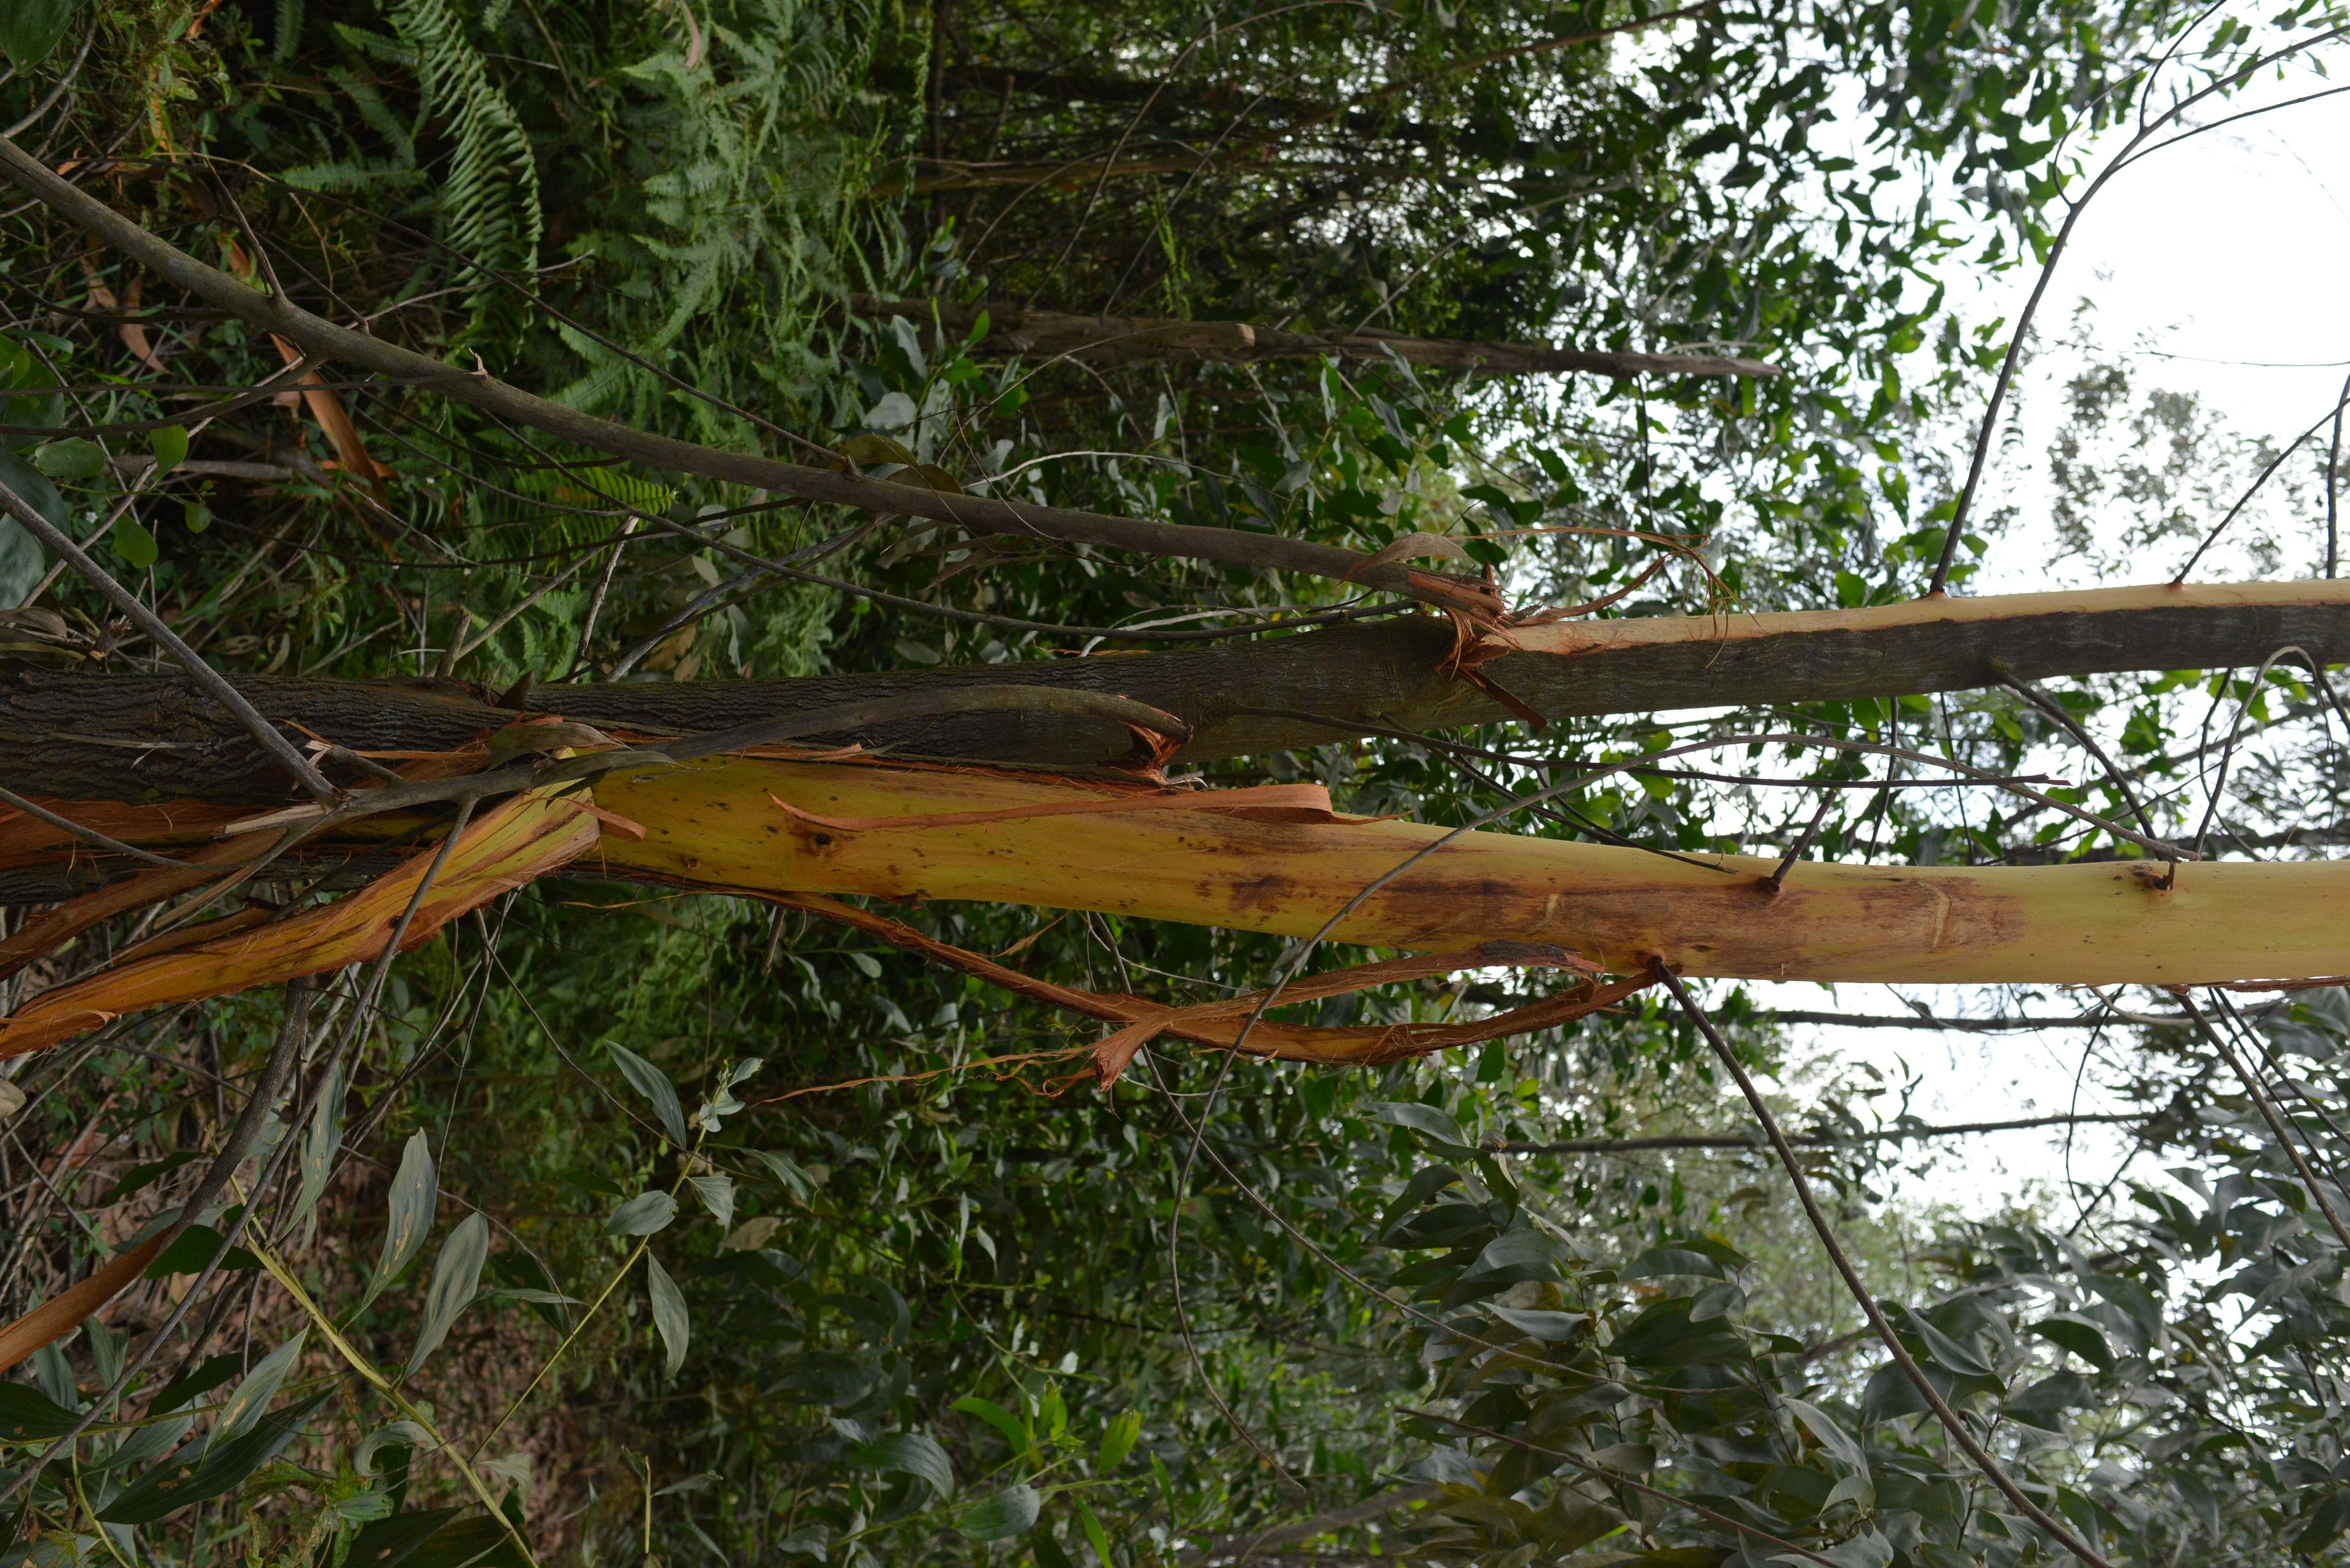Mammals Attack: (595, 747, 2350, 1003), (1470, 574, 2350, 663)
